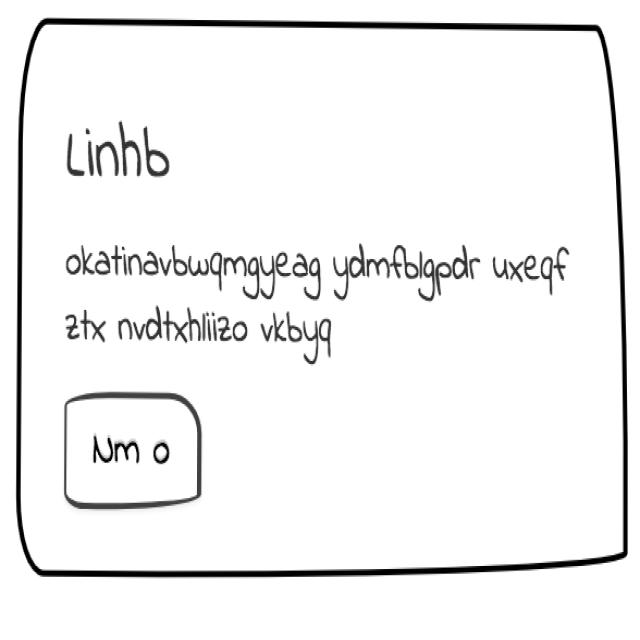Button: (60, 384, 215, 521)
Heading 6: (49, 115, 185, 202)
Paragraph: (57, 242, 580, 366)
